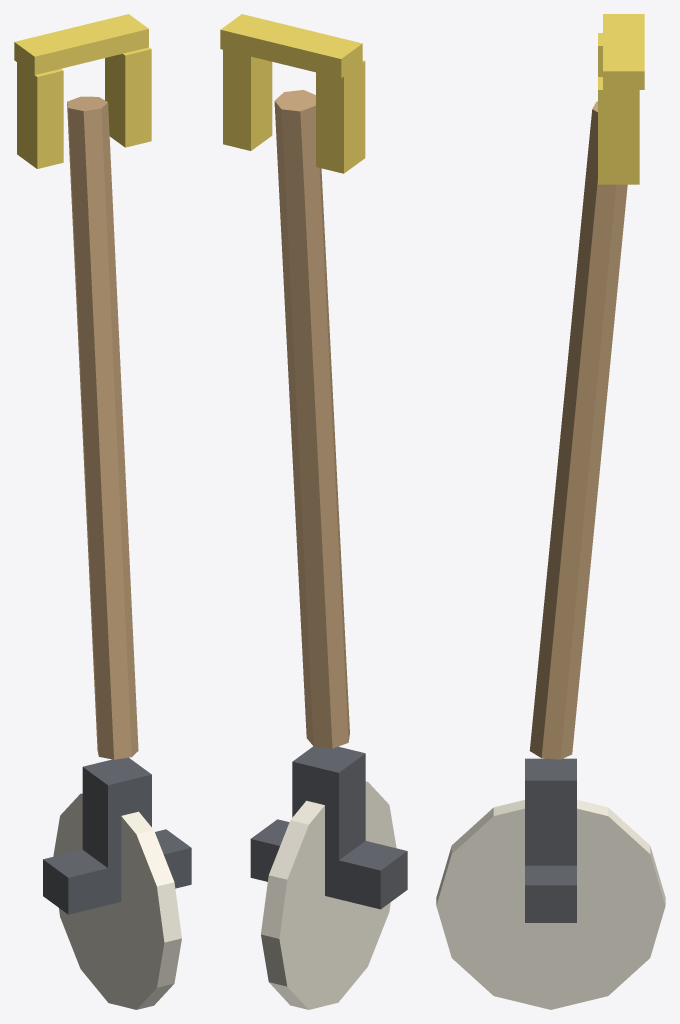
Rendered from lawn-mowing-simulator-kit-edging-tool-0a3df8b9__27383.glb.
3 renders of one model, left to right at view 1: azimuth 30°, elevation 25°; view 2: azimuth 150°, elevation 25°; view 3: azimuth 270°, elevation 25°, orthographic. The views are drawn at different scales.
Parts seen in each view (by area): view 1: edging-tool; view 2: edging-tool; view 3: edging-tool.
Part boxes in pixels (box(x1,y1,x2,y2)): edging-tool: box(14, 14, 191, 1009); edging-tool: box(220, 14, 407, 1009); edging-tool: box(436, 14, 665, 1009).
Size of the model in its own units: 0.14 by 1.02 by 0.22.
